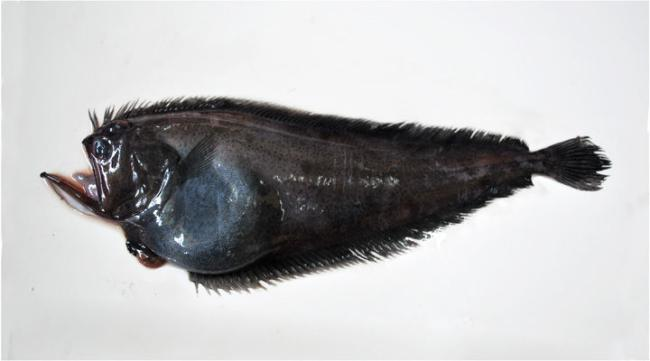fish: (39, 96, 612, 295)
